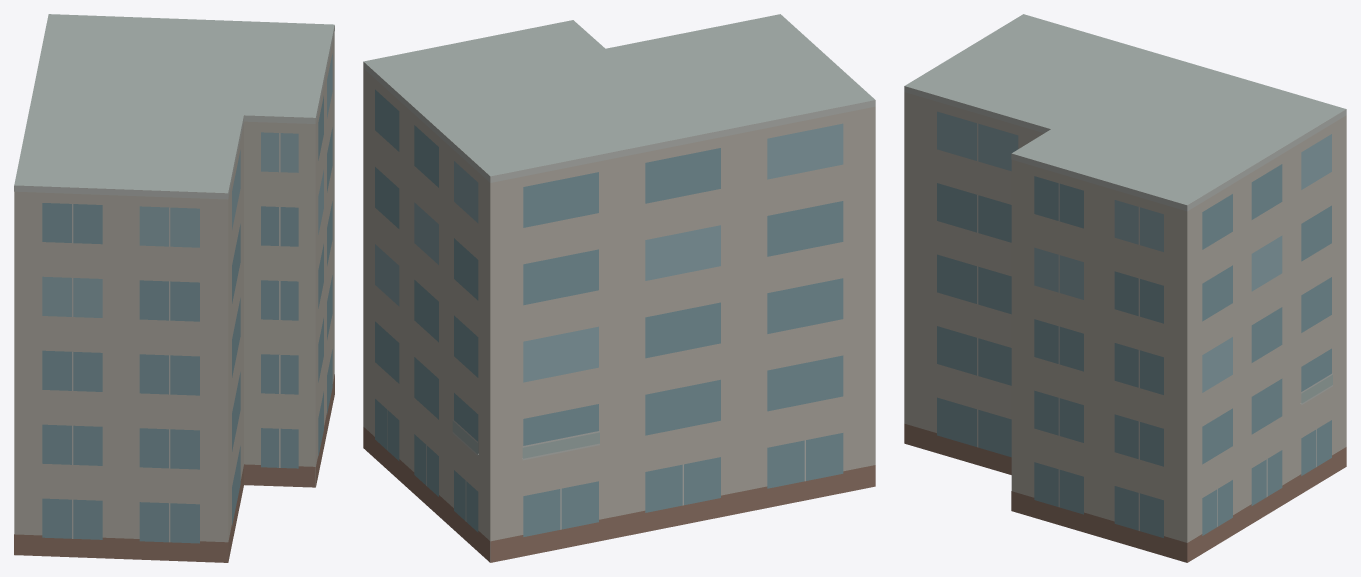
Rendered from survey-upis-33006462.glb.
The picture shows the model from 3 angles, left to right: view 1: azimuth 30°, elevation 25°; view 2: azimuth 150°, elevation 25°; view 3: azimuth 270°, elevation 25°; orthographic projection. The views are drawn at different scales.
Visible parts, largest first — view 1: survey-upis-33006462.tmp; view 2: survey-upis-33006462.tmp; view 3: survey-upis-33006462.tmp.
Boxes of the visible parts, x1=… form: survey-upis-33006462.tmp: x1=14, y1=14, x2=334, y2=562; survey-upis-33006462.tmp: x1=363, y1=14, x2=875, y2=562; survey-upis-33006462.tmp: x1=904, y1=14, x2=1346, y2=562.
Size of the model in its own units: 16.54 by 14.4 by 16.15.
